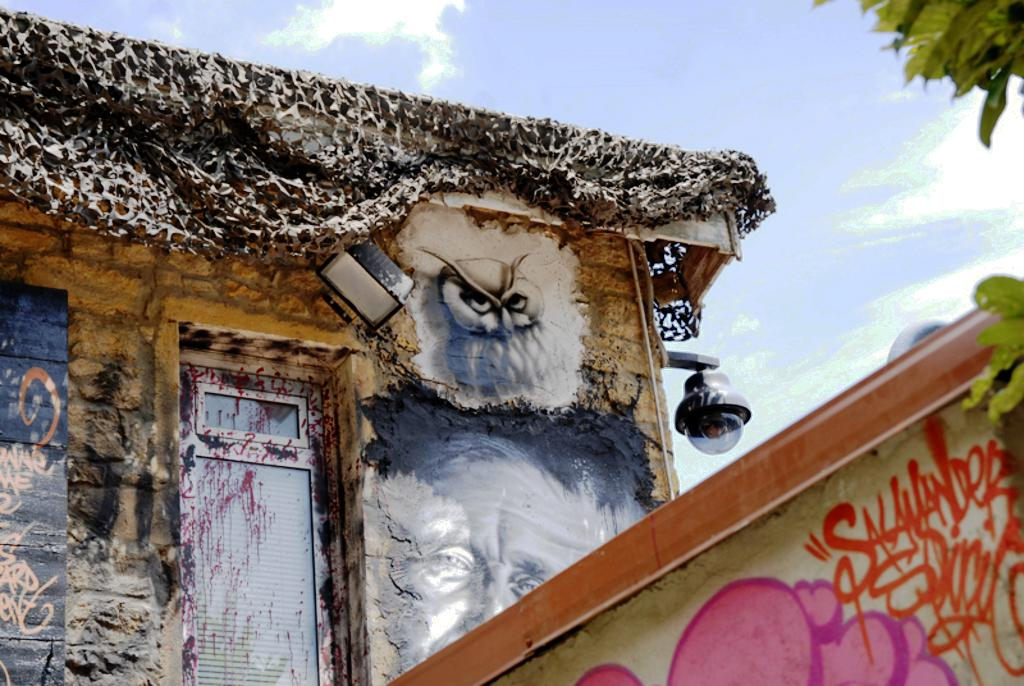Owl: (421, 239, 571, 403)
